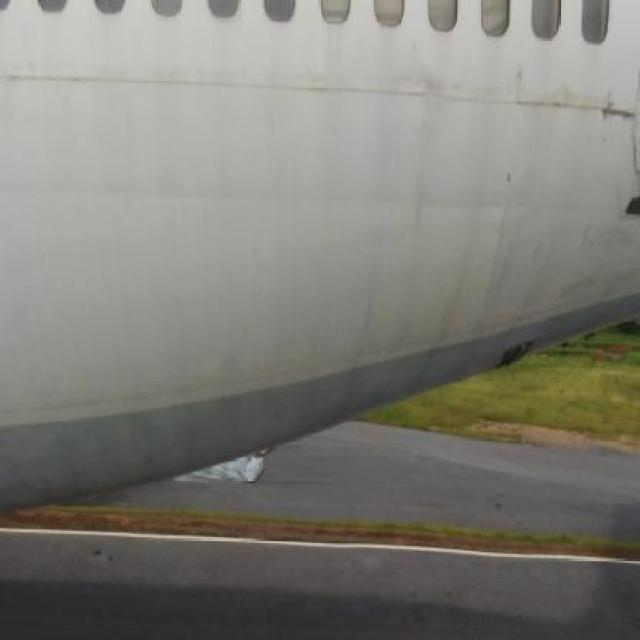Scartch: (547, 81, 640, 127)
